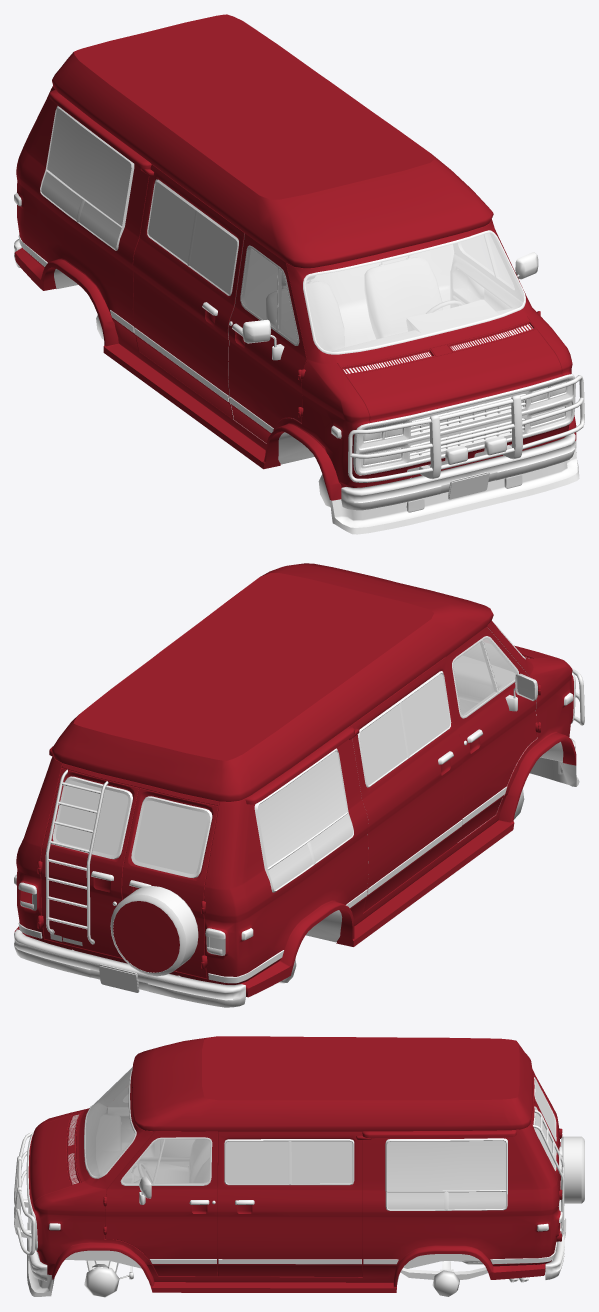
The model's file is body.glb.
3 renders of one model, top to bottom at view 1: azimuth 30°, elevation 25°; view 2: azimuth 150°, elevation 25°; view 3: azimuth 270°, elevation 25°, orthographic. The views are drawn at different scales.
Parts seen in each view (by area): view 1: Shvan92_Body_Shvan92_bodymat_0, Shvan92_Bumper_rear_UCB_BOTTOM_0, Shvan92_Windshield_UCB_Lights_and_Glass_Transperent_0, Shvan92_Interior_UCB_Interiors_1_0, Shvan92_Reverse_UCB_Lights_and_Glass_0; view 2: Shvan92_Body_Shvan92_bodymat_0, Shvan92_Bumper_rear_UCB_BOTTOM_0, Shvan92_Interior_UCB_Interiors_1_0, Shvan92_Windshield_UCB_Lights_and_Glass_Transperent_0, Shvan92TRVL_Numberplate_rear_Numberplates_Misk_U_0; view 3: Shvan92_Body_Shvan92_bodymat_0, Shvan92_Bumper_rear_UCB_BOTTOM_0, Shvan92_Windshield_UCB_Lights_and_Glass_Transperent_0, Shvan92_Interior_UCB_Interiors_1_0.
Part boxes in pixels (box(x1,y1,x2,y2)): Shvan92_Body_Shvan92_bodymat_0: box(14, 14, 576, 500); Shvan92_Bumper_rear_UCB_BOTTOM_0: box(14, 105, 584, 534); Shvan92_Windshield_UCB_Lights_and_Glass_Transperent_0: box(241, 233, 566, 465); Shvan92_Interior_UCB_Interiors_1_0: box(228, 233, 523, 423); Shvan92_Reverse_UCB_Lights_and_Glass_0: box(363, 383, 565, 464); Shvan92_Body_Shvan92_bodymat_0: box(14, 563, 576, 997); Shvan92_Bumper_rear_UCB_BOTTOM_0: box(14, 622, 584, 1007); Shvan92_Interior_UCB_Interiors_1_0: box(32, 628, 525, 955); Shvan92_Windshield_UCB_Lights_and_Glass_Transperent_0: box(453, 638, 517, 715); Shvan92TRVL_Numberplate_rear_Numberplates_Misk_U_0: box(99, 966, 138, 992); Shvan92_Body_Shvan92_bodymat_0: box(28, 1036, 562, 1292); Shvan92_Bumper_rear_UCB_BOTTOM_0: box(14, 1067, 584, 1297); Shvan92_Windshield_UCB_Lights_and_Glass_Transperent_0: box(85, 1067, 210, 1184); Shvan92_Interior_UCB_Interiors_1_0: box(86, 1070, 209, 1184).
Bounding box in the file's own units: 2.35 × 1.98 × 5.18.
